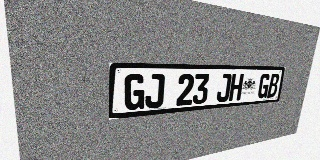2: (176, 74, 195, 106)
3: (192, 74, 210, 104)
B: (267, 73, 280, 98)
G: (124, 74, 145, 111), (257, 74, 271, 99)
H: (228, 74, 244, 101)
J: (145, 74, 165, 109), (216, 74, 232, 102)
